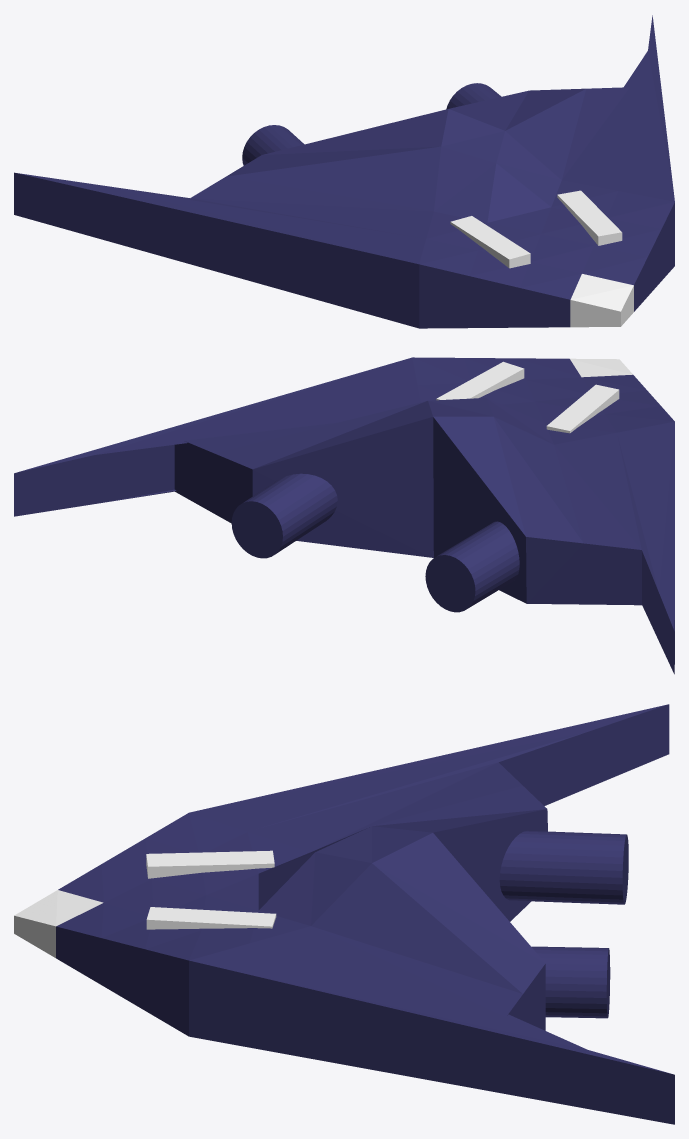
Rendered from aircraft.fbx.
3 views of the same model, one above another, from view 1: azimuth 30°, elevation 25°; view 2: azimuth 150°, elevation 25°; view 3: azimuth 270°, elevation 25° (orthographic). The views are drawn at different scales.
Parts seen in each view (by area): view 1: Cube; view 2: Cube; view 3: Cube.
Boxes of the visible parts, x1,y1,x2,y2 form: Cube: (14, 15, 674, 328); Cube: (14, 357, 674, 674); Cube: (14, 704, 674, 1124).
Size of the model in its own units: 7.09 by 1.44 by 5.34.
